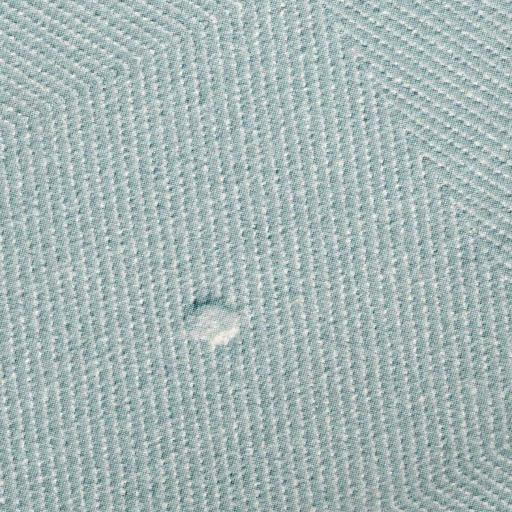knot: (176, 295, 255, 349)
